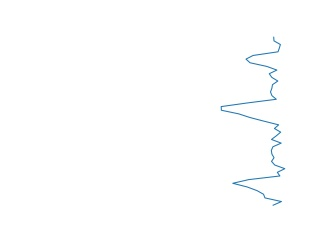underwaterNaturalLevee: (215, 35, 291, 211)
